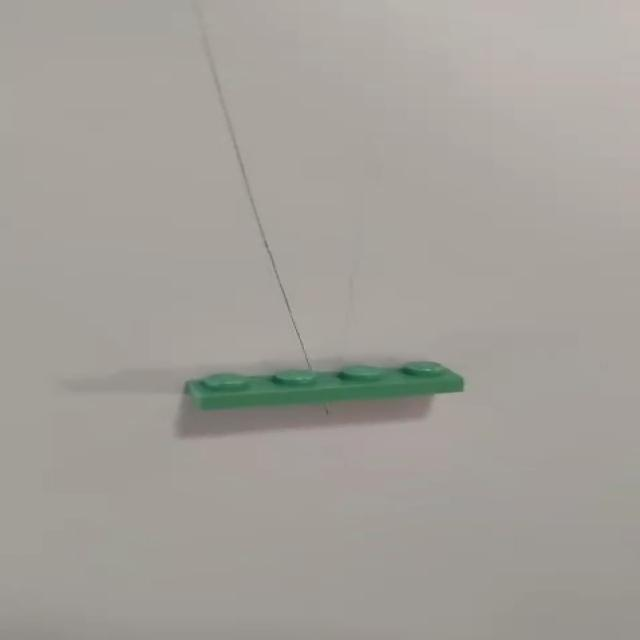C4x1x0: (171, 362, 465, 422)
